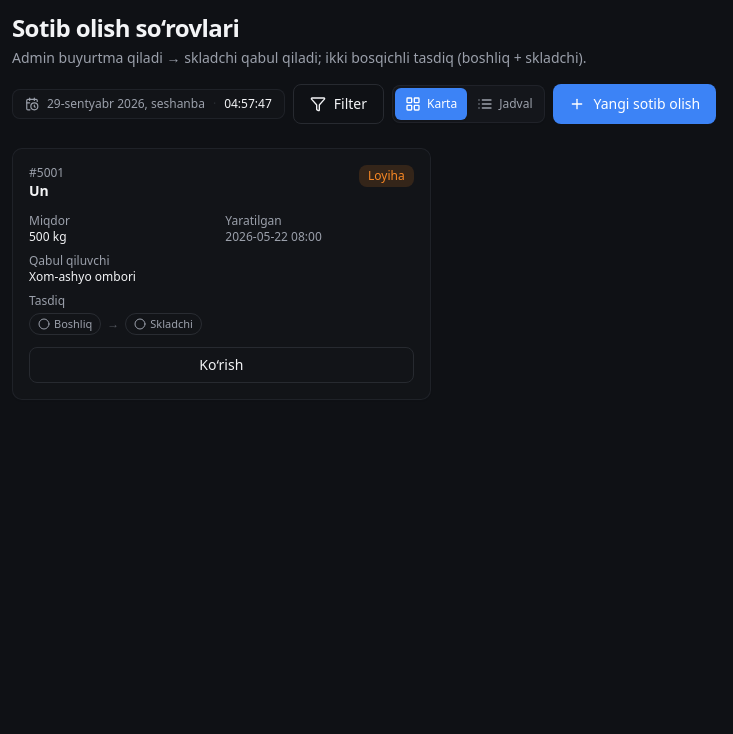
Test: RBAC matrix — supply_manager › sees Yangi sotib olish + manager-step approve as the creator
The image size is (733, 734).
Check: the text "Un" is shown, box 29,181 -> 49,200
Check: the button "Yangi sotib olish" is shown, box 554,84 -> 716,124
Click the button "Ko‘rish" at (221, 365), box 29,347 -> 414,383
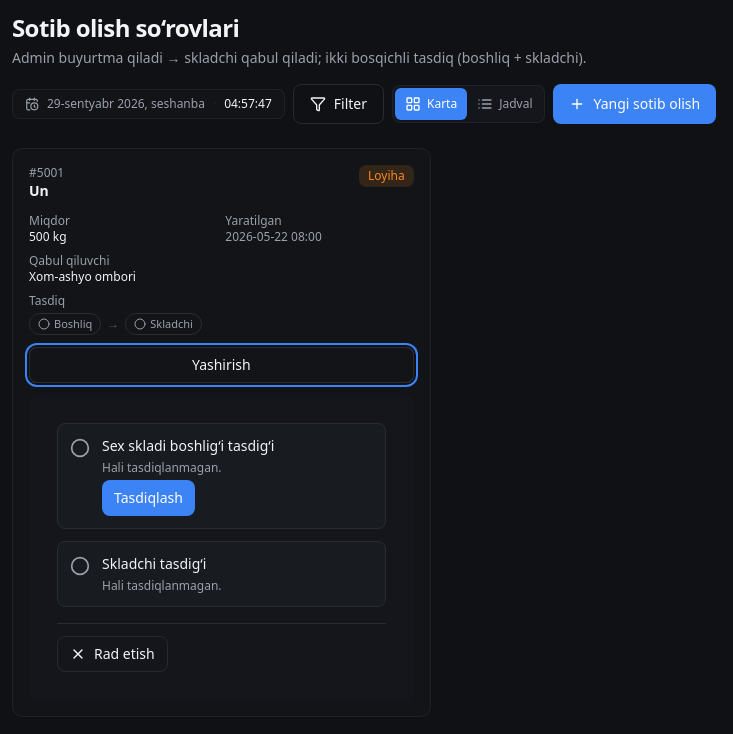
Check: the button with aria-label "tasdiqlash (boshliq)" is shown, box 102,480 -> 195,516
Check: the button "Rad etish" is shown, box 57,636 -> 168,672
